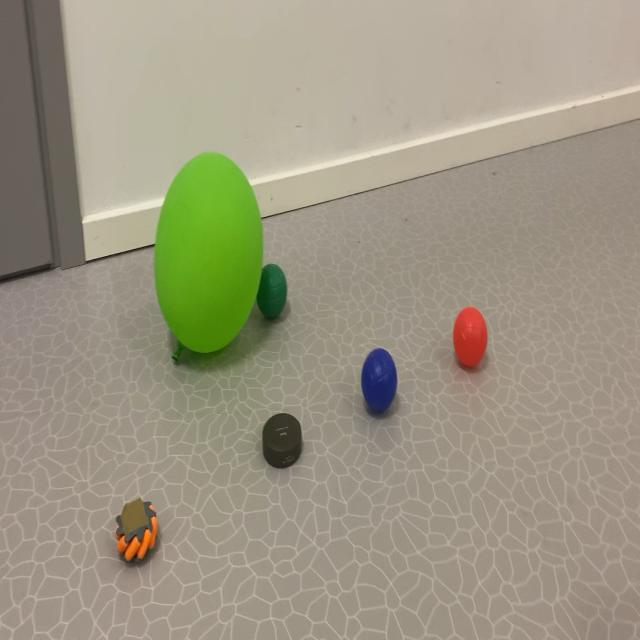7: (453, 296, 497, 418)
green ball: (346, 326, 404, 457)
red ball: (252, 237, 308, 358)
